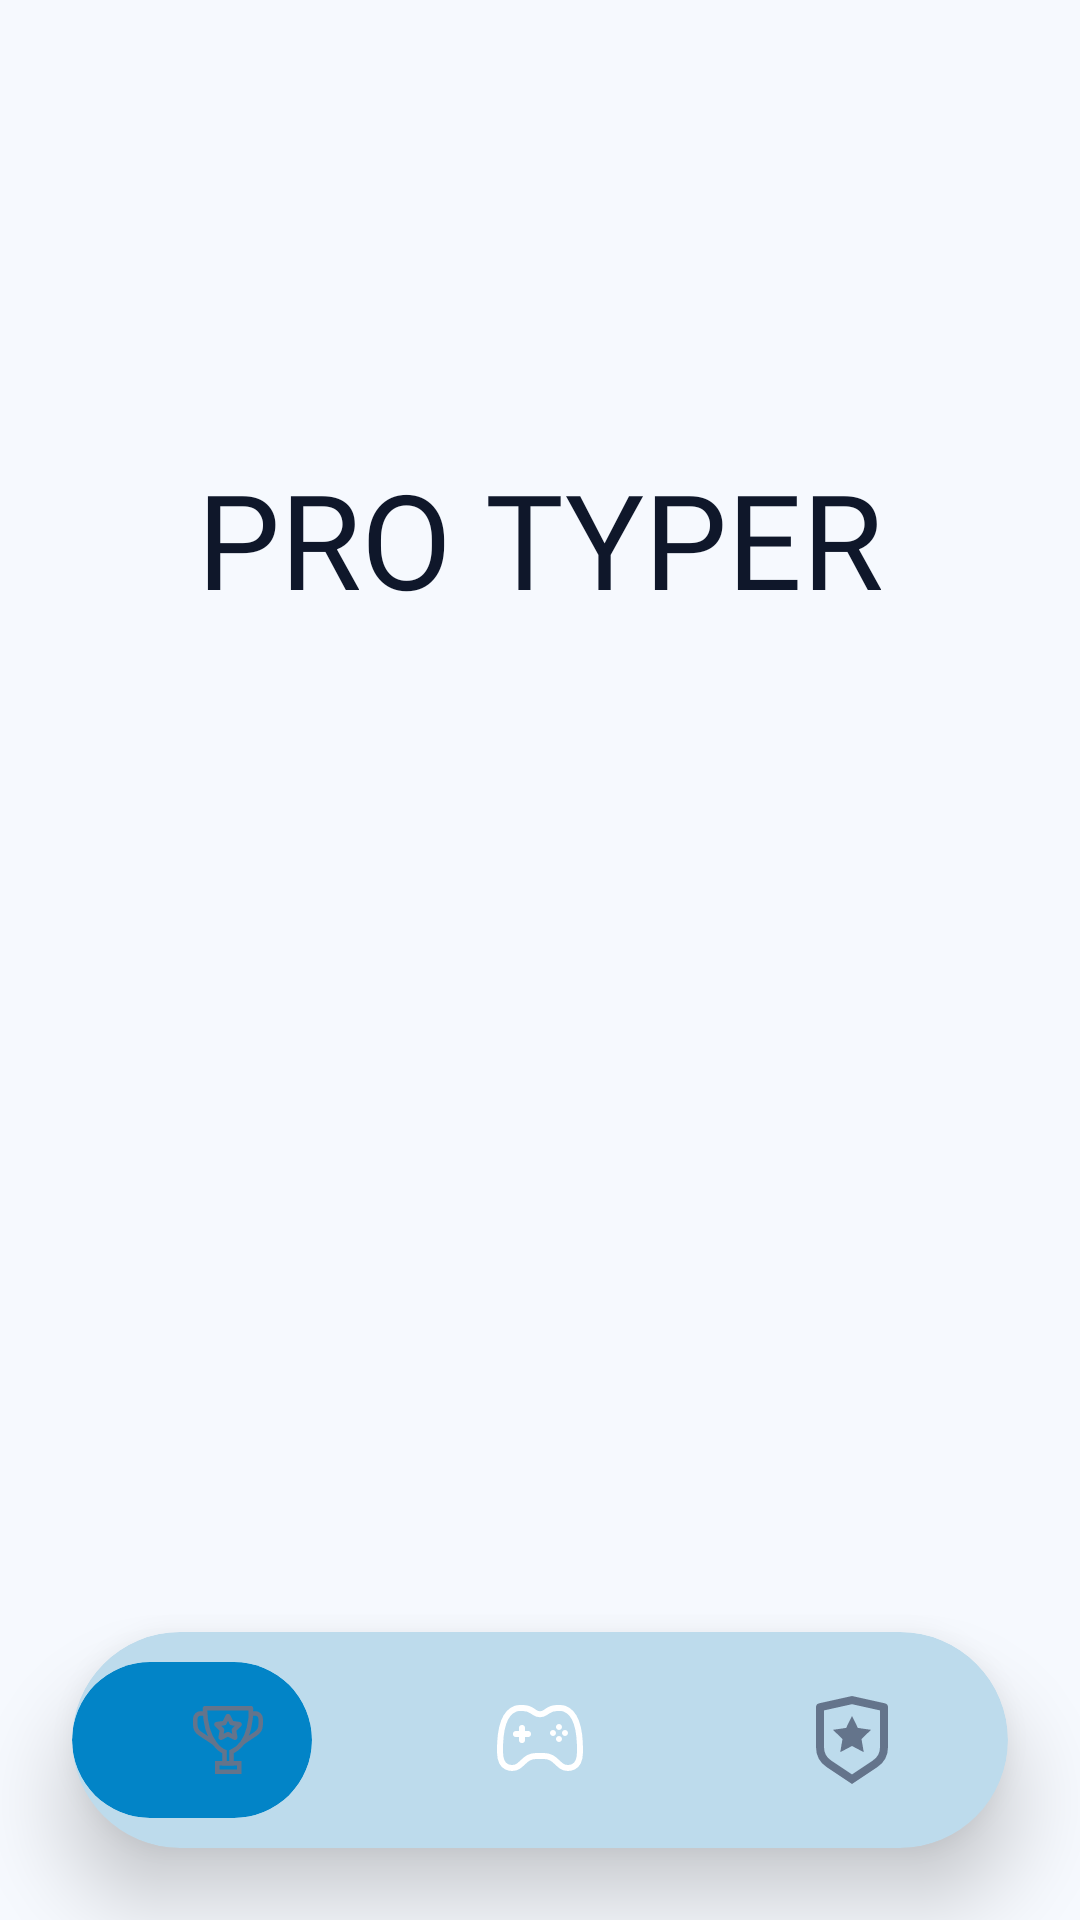

Screen size 1080 x 1920. Icon name, then its center in pixels as point (x, y):
play: point (540, 1738)
shield: point (852, 1740)
trophy: point (228, 1740)
